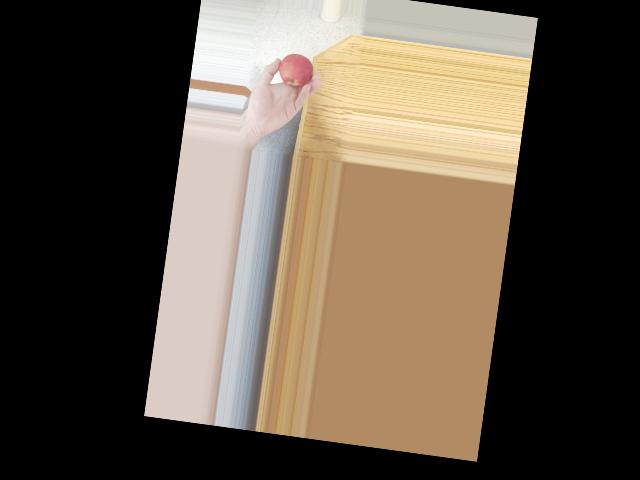apple: (278, 49, 316, 88)
